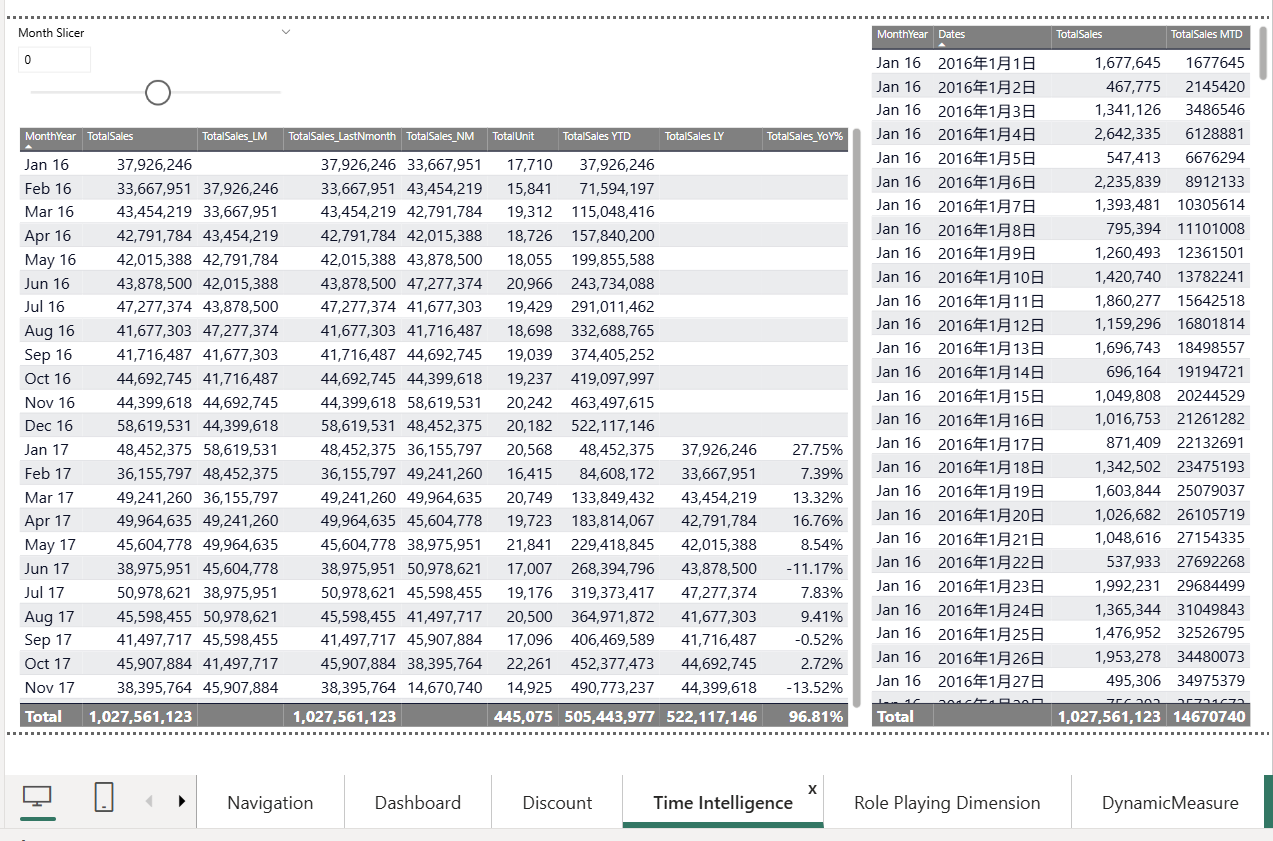

What the dashboard file says about the page in this screenshot:
{"tool":"powerbi","page":{"name":"Time Intelligence","canvas":[1280,720],"ordinal":3},"visuals":[{"type":"tableEx","fields":{"Values":["DimCalendar.MonthYear","Facts.TotalSales","FactSales.TotalSales_LM","FactSales.TotalSales_LM1","FactSales.TotalSales_NM","FactSales.TotalUnit","Facts.TotalSales YTD","Facts.TotalSales LY","FactSales.TotalSales_YoY%"]},"box":[9.1,104.5,860.1,614.8],"z":0},{"type":"tableEx","fields":{"Values":["DimCalendar.MonthYear","DimCalendar.Dates","FactSales.TotalSales","FactSales.TotalSales MTD"]},"box":[869.2,1.5,410.3,717.7],"z":1000},{"type":"slicer","fields":{"Values":["Month 2.Month"]},"box":[0,0,301.2,106.9],"z":2000}]}

Visuals, with their boxes on the page's 1280x720 design canvas (x1, y1, x2, y2). These are canvas units, not pixel positions in the 1273x841 screenshot, which may show the page scaled, cropped or inside an application window:
tableEx - DimCalendar.MonthYear x Facts.TotalSales: bbox(9, 104, 869, 719)
tableEx - DimCalendar.MonthYear x DimCalendar.Dates: bbox(869, 2, 1280, 719)
slicer - Month 2.Month: bbox(0, 0, 301, 107)
